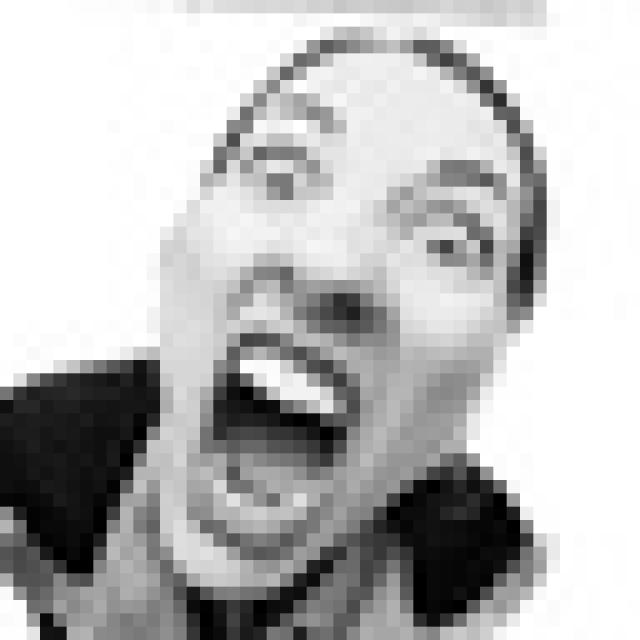angry: (180, 88, 518, 558)
